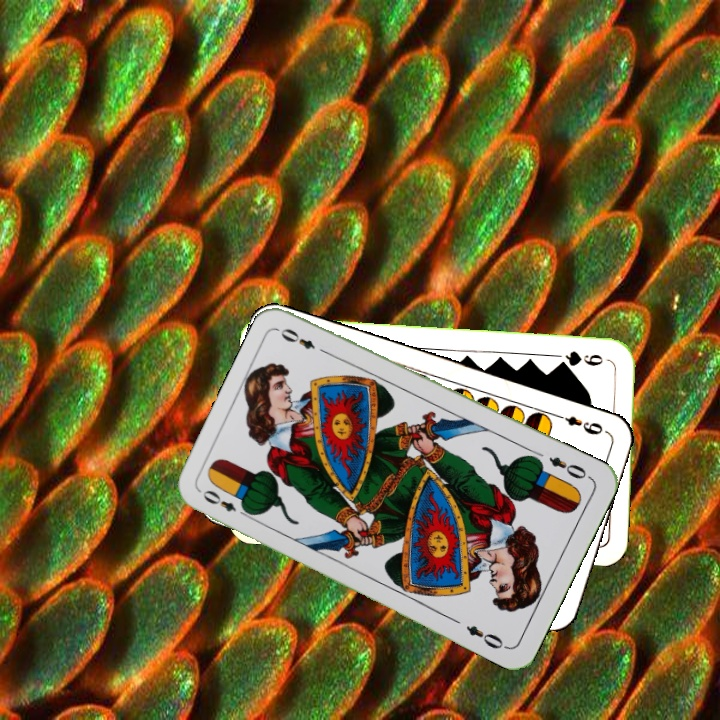E9: (551, 409, 606, 438)
EO: (198, 486, 253, 520), (544, 452, 594, 482)
G9: (553, 347, 606, 369)
